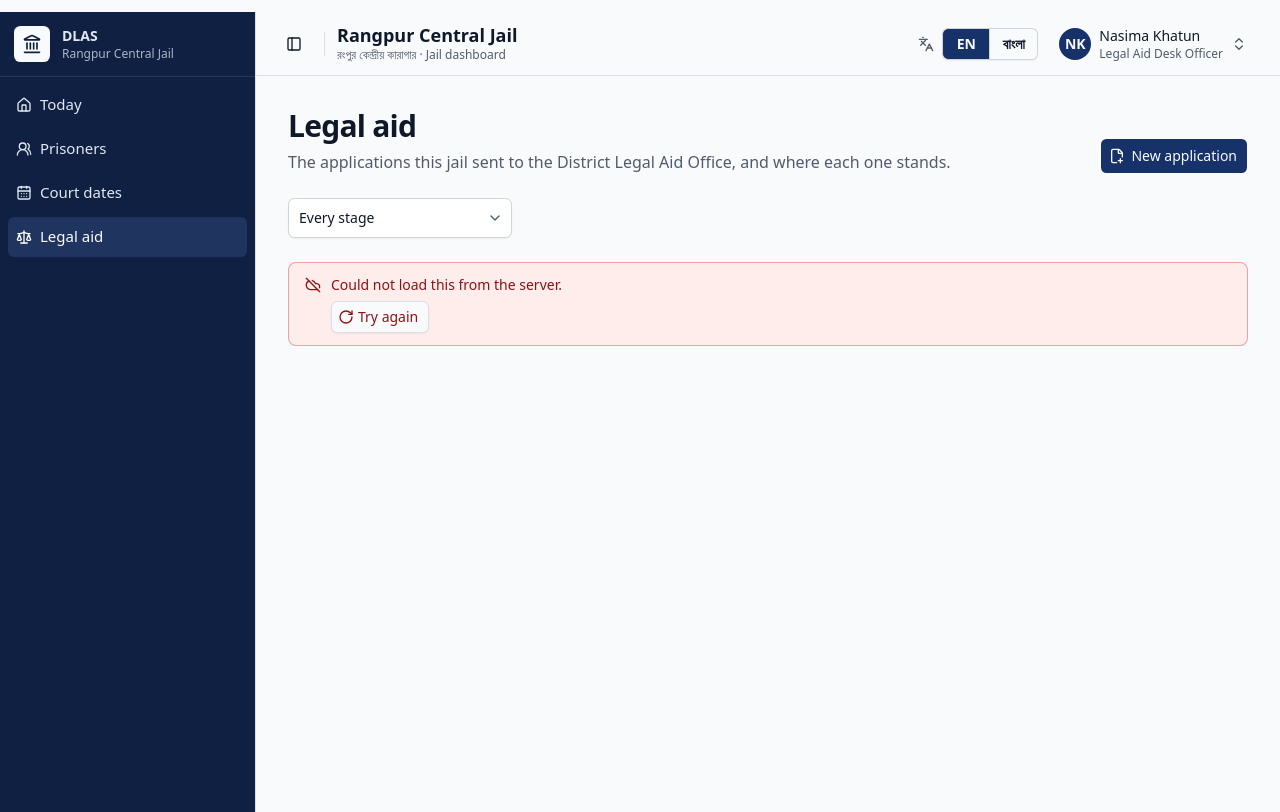
Scenario: with a backend (VITE_API_URL) › says when the server cannot be reached, and tries again
Expected: the text "Could not load this from the server." is shown, [331,275,562,294]
Click the button "Try again": [380, 317] box [331,301,429,333]
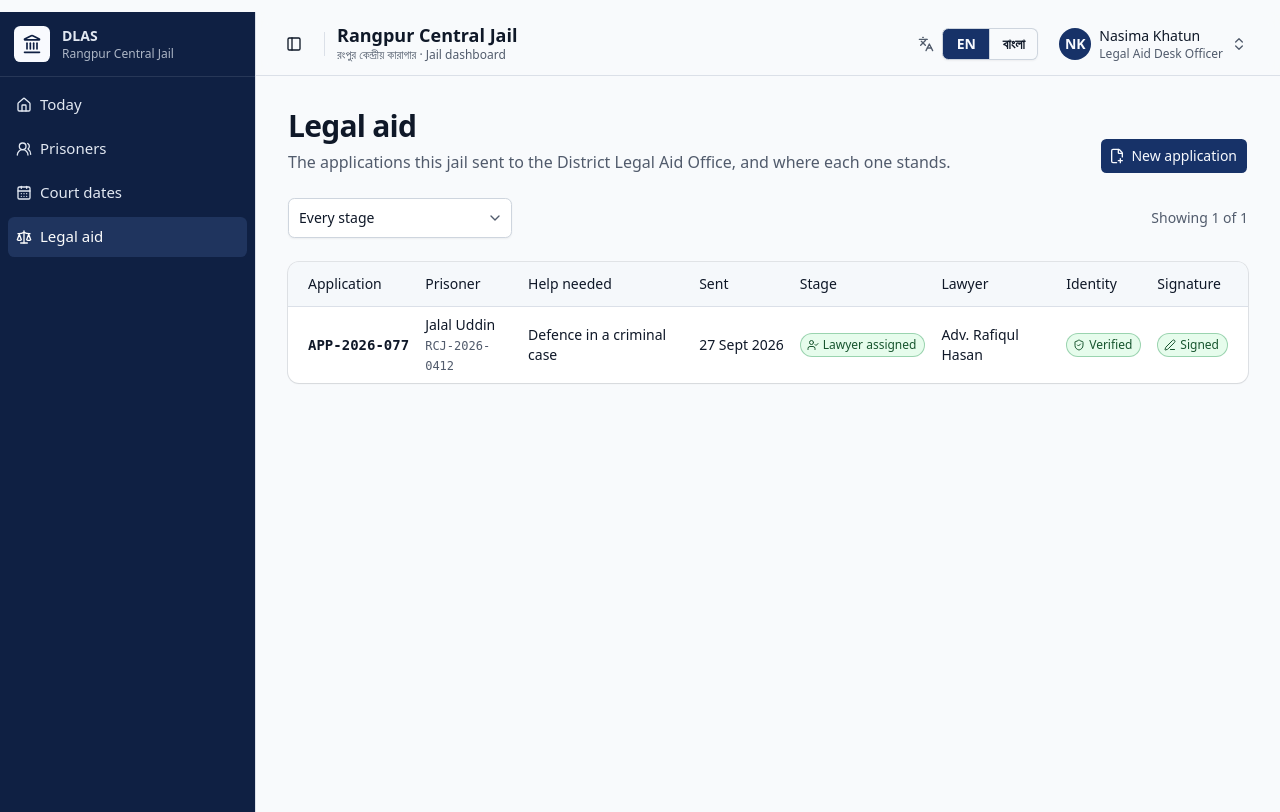
Expected: the link "APP-2026-077" is shown, [308,336,409,352]
